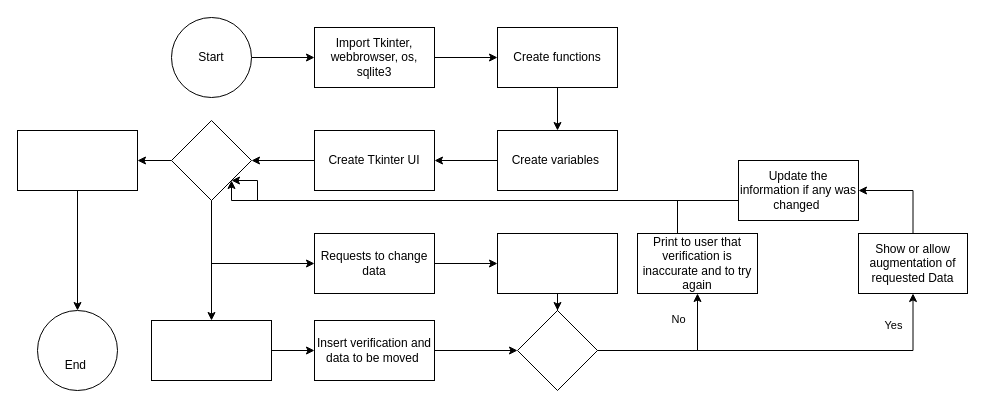
Some shapes in this 985 by 408 pixel diagram are drawn without their labels. The shapes that lost their labels are listed below. From the top down, each one's box as (x1, y1, x2, y2) in pixels, then its label:
(16, 130, 138, 190): Requests to close program
(170, 120, 252, 200): User state
(496, 232, 618, 294): Insert verification and specific appotiment/data to be augmented
(150, 320, 272, 380): Requests to view data
(516, 310, 598, 390): Is verification accurate
